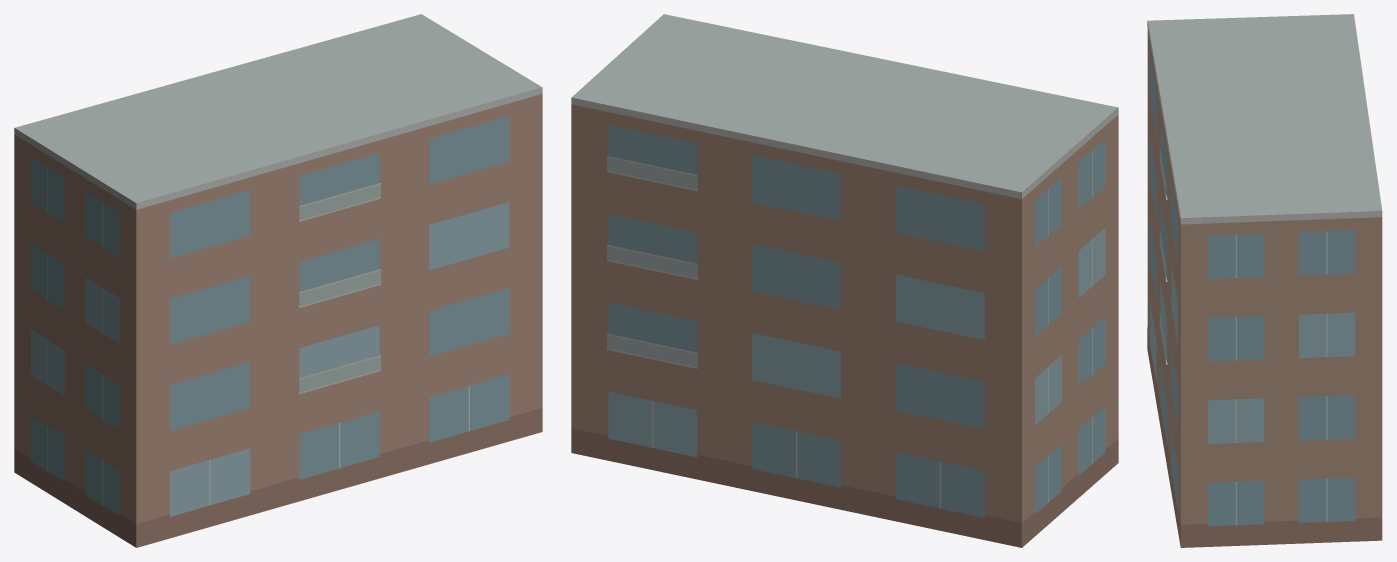
File: survey-upis-32759652.glb
3 views of the same model, side by side, from view 1: azimuth 30°, elevation 25°; view 2: azimuth 150°, elevation 25°; view 3: azimuth 270°, elevation 25° (orthographic). The views are drawn at different scales.
Visible parts, largest first — view 1: survey-upis-32759652.tmp; view 2: survey-upis-32759652.tmp; view 3: survey-upis-32759652.tmp.
Boxes of the visible parts, x1,y1,x2,y2 form: survey-upis-32759652.tmp: (14, 14, 542, 547); survey-upis-32759652.tmp: (571, 14, 1118, 547); survey-upis-32759652.tmp: (1147, 14, 1382, 547).
Size of the model in its own units: 17.02 by 12.8 by 8.27.
